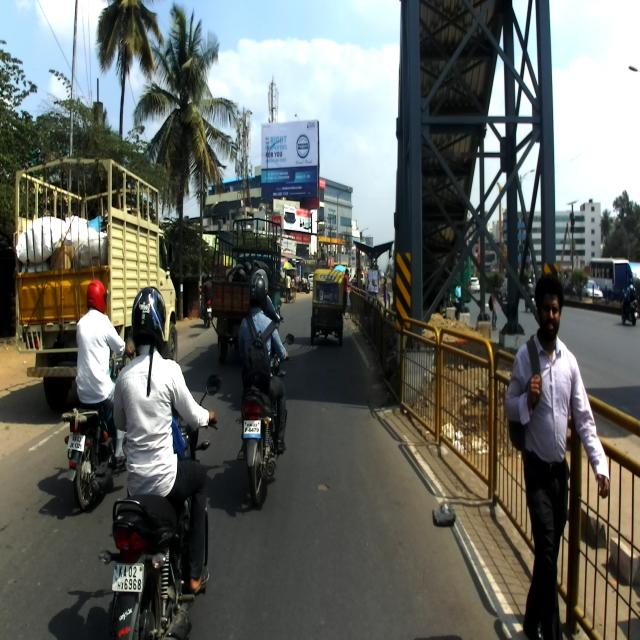auto ahead at: (310, 267, 348, 348)
motorcycle ahead at: (110, 491, 217, 640), (237, 384, 291, 499), (60, 390, 108, 512)
person ahead at: (504, 273, 616, 640)
truck ahead at: (14, 155, 178, 365)
